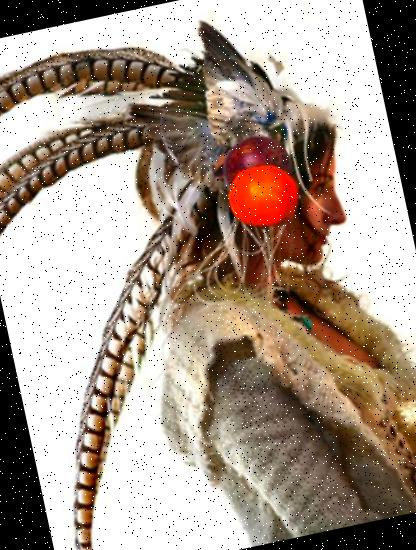Clementine: (221, 155, 306, 240)
Mangostan: (208, 122, 302, 216)
